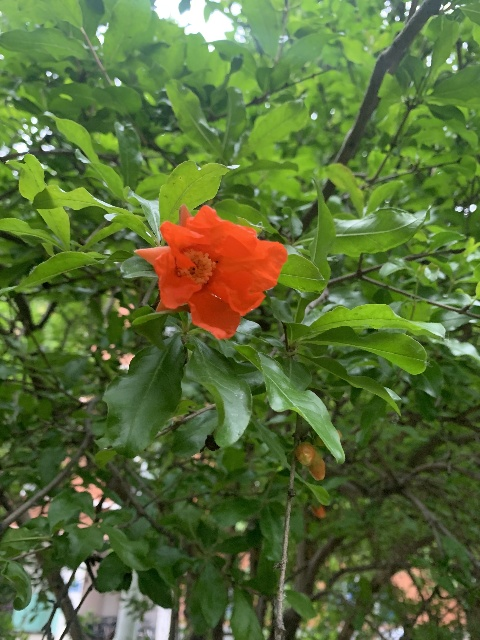bud: (295, 441, 314, 465), (307, 456, 326, 480)
flower: (135, 203, 287, 339)
